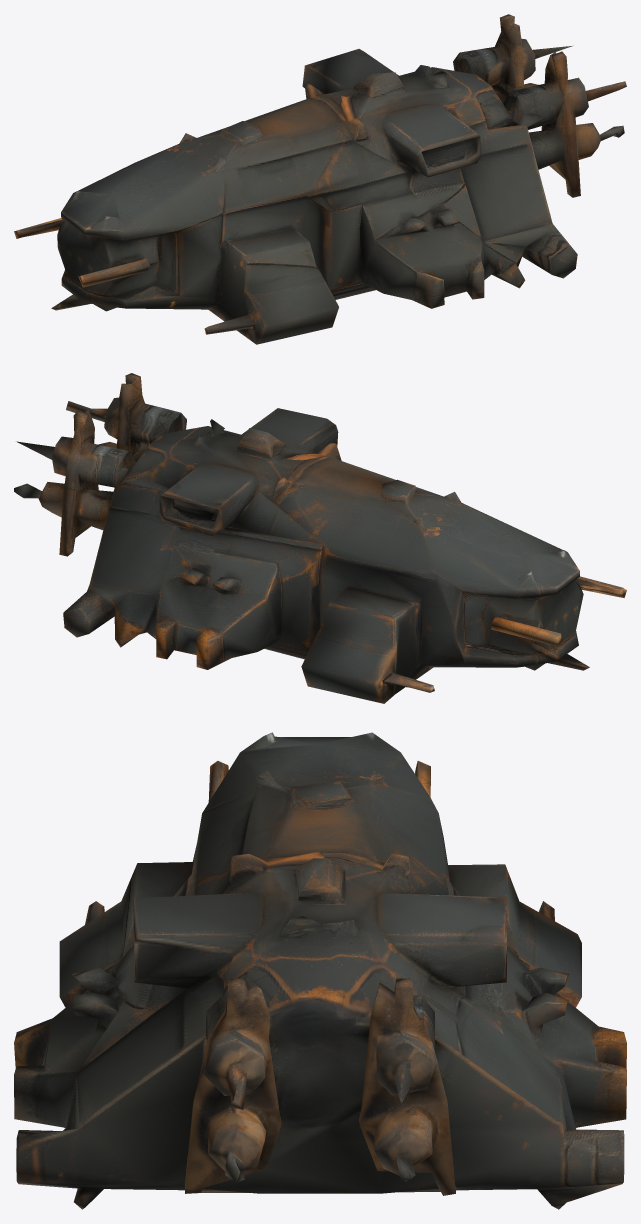
The picture shows the model from 3 angles, top to bottom: view 1: azimuth 30°, elevation 25°; view 2: azimuth 150°, elevation 25°; view 3: azimuth 270°, elevation 25°; orthographic projection. The views are drawn at different scales.
Parts seen in each view (by area): view 1: Mesh_0; view 2: Mesh_0; view 3: Mesh_0.
Boxes of the visible parts, x1=… form: Mesh_0: x1=14, y1=14, x2=626, y2=344; Mesh_0: x1=14, y1=373, x2=626, y2=703; Mesh_0: x1=14, y1=732, x2=626, y2=1209.
Bounding box in the file's own units: 1.88 × 0.5845 × 1.13.
Materials: 1 (1 with a texture image).
